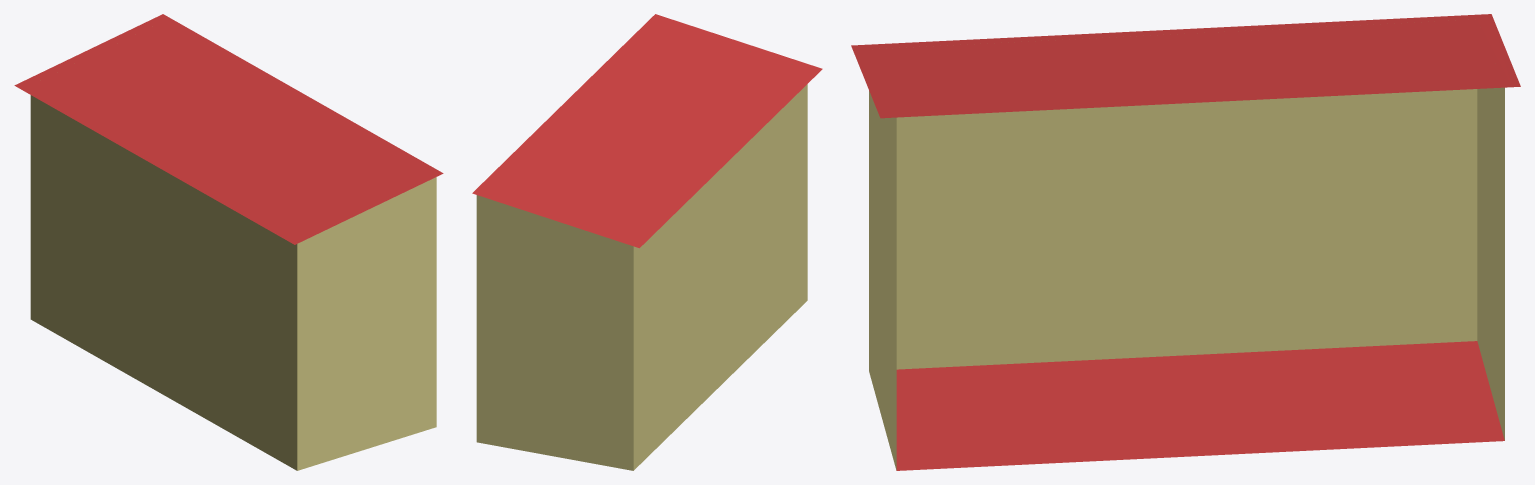
3 views of the same model, side by side, from view 1: azimuth 30°, elevation 25°; view 2: azimuth 150°, elevation 25°; view 3: azimuth 270°, elevation 25° (orthographic). The views are drawn at different scales.
Size of the model in its own units: 5.05 by 10.34 by 6.02.
